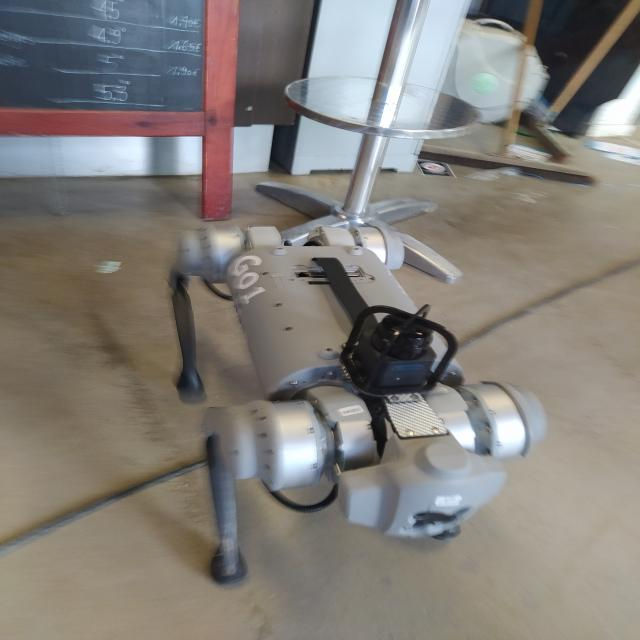unitree-go1-robot: (168, 222, 546, 587)
